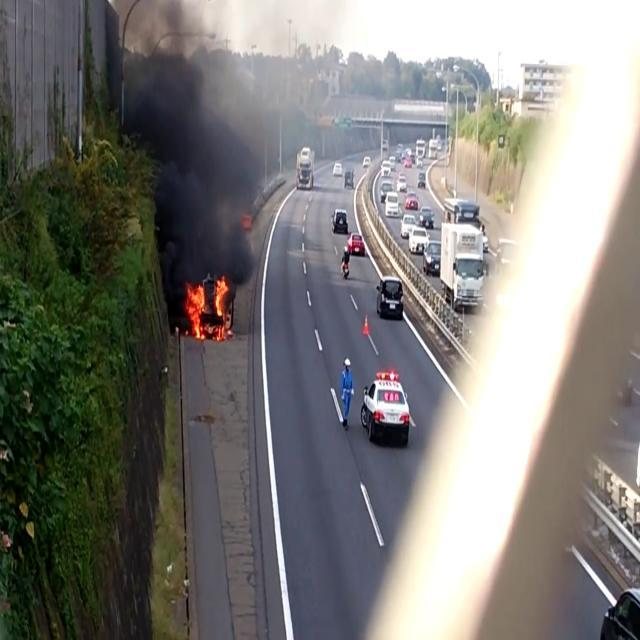Fire: (182, 270, 232, 340)
Smoke: (108, 0, 266, 271)
